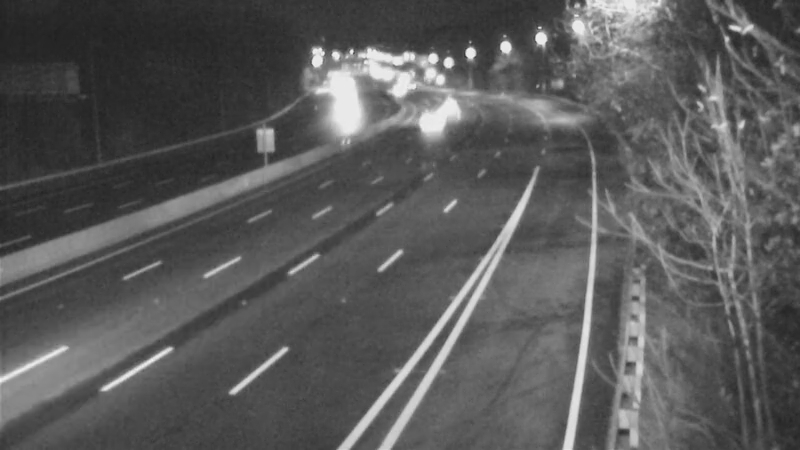vehicle: (377, 64, 427, 114), (426, 77, 476, 127), (407, 95, 457, 145)
